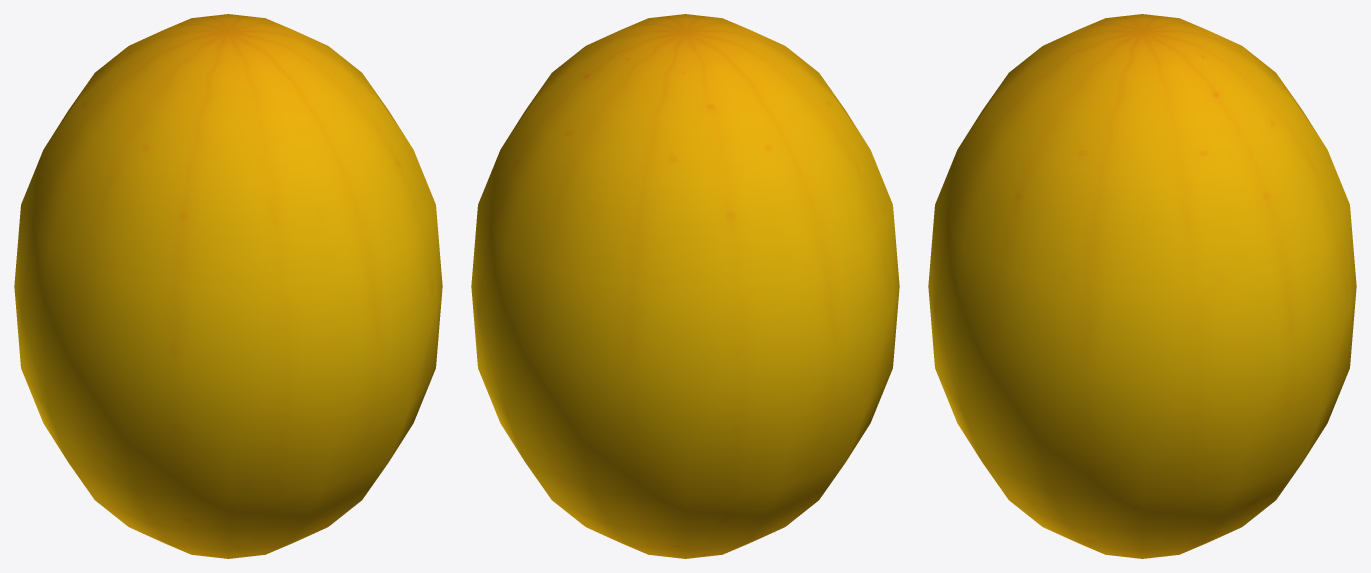
Rendered from HoneydewMelon.fbx.
3 views of the same model, side by side, from view 1: azimuth 30°, elevation 25°; view 2: azimuth 150°, elevation 25°; view 3: azimuth 270°, elevation 25° (orthographic).
Visible parts, largest first — view 1: HoneydewMelon_Whole; view 2: HoneydewMelon_Whole; view 3: HoneydewMelon_Whole.
Part boxes in pixels (left/top/right/bottom): HoneydewMelon_Whole: left=14, top=14, right=442, bottom=558; HoneydewMelon_Whole: left=471, top=14, right=899, bottom=558; HoneydewMelon_Whole: left=928, top=14, right=1356, bottom=558.
Bounding box in the file's own units: 2.09 × 2.74 × 2.09.
